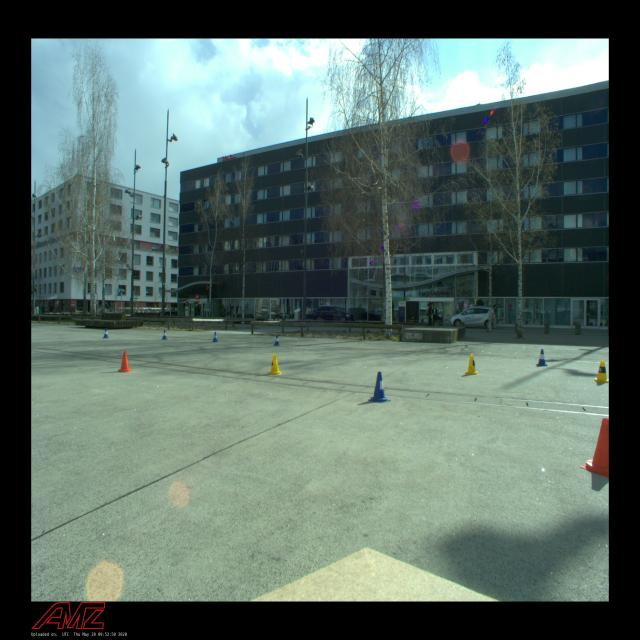blue_cone: (368, 371, 391, 404), (536, 349, 548, 366), (212, 332, 220, 342), (103, 328, 109, 338), (162, 330, 168, 340), (274, 335, 280, 345)
orange_cone: (580, 417, 608, 478), (118, 350, 133, 372)
yellow_cone: (594, 359, 609, 384), (268, 353, 282, 375), (465, 354, 479, 375)
